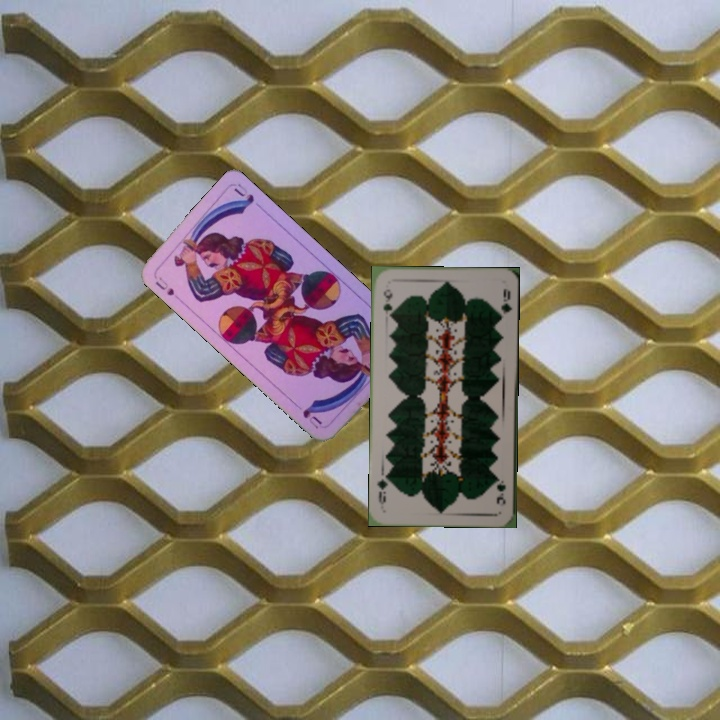G9: (492, 473, 508, 507), (379, 285, 394, 321)
SU: (151, 273, 177, 299)
